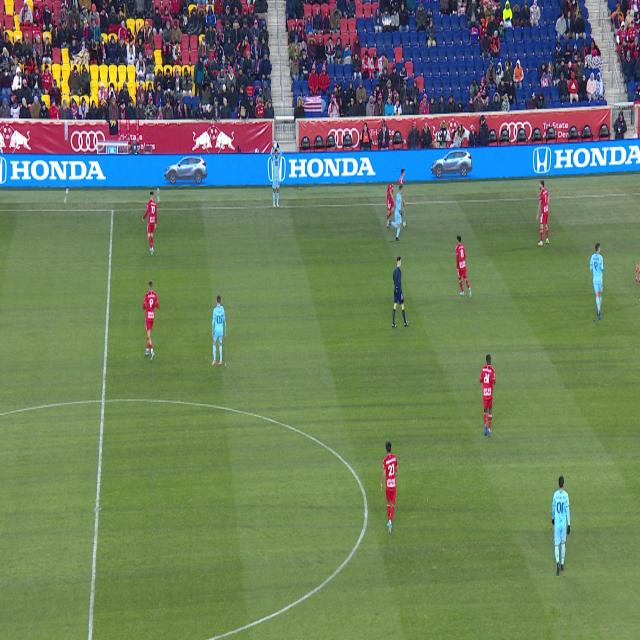player: (552, 476, 570, 576), (381, 441, 398, 534), (479, 354, 496, 436), (143, 281, 159, 361), (590, 244, 604, 320), (455, 236, 472, 298), (142, 192, 157, 256), (387, 185, 403, 241), (536, 180, 549, 246), (213, 296, 225, 366), (395, 169, 405, 227), (637, 263, 639, 286), (639, 298, 640, 302)
referee: (392, 257, 409, 328)
